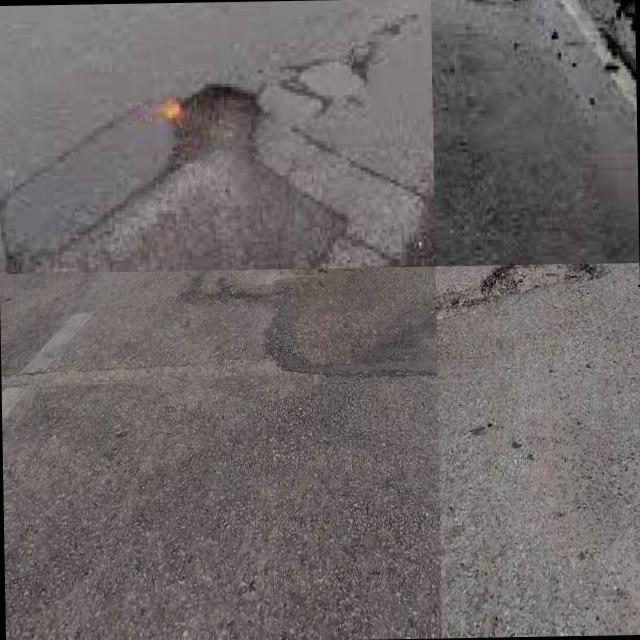Pothole: (143, 83, 269, 205), (478, 263, 596, 305), (231, 268, 315, 290)
